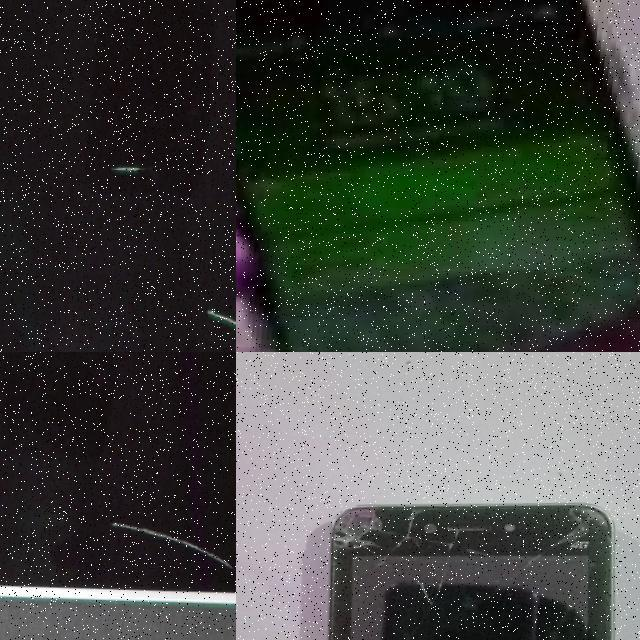scratch: (113, 508, 236, 573), (533, 482, 640, 554), (112, 153, 167, 180)
screen crack: (318, 473, 478, 603)
